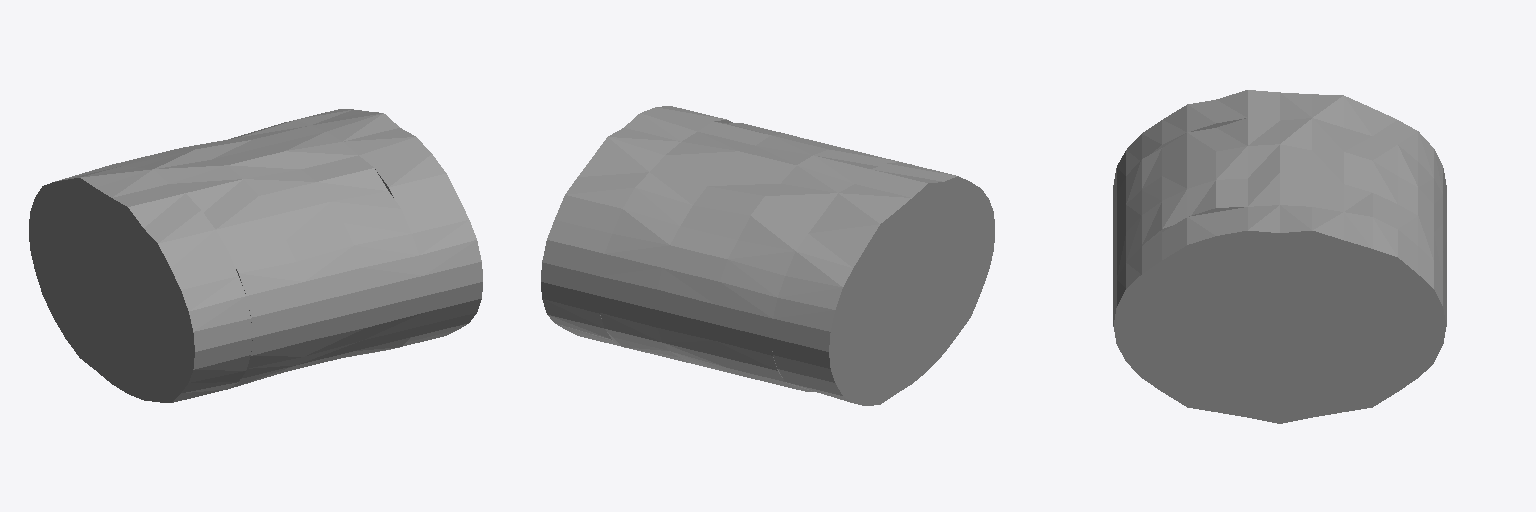
File: snakeBP.obj
The picture shows the model from 3 angles: view 1: azimuth 30°, elevation 25°; view 2: azimuth 150°, elevation 25°; view 3: azimuth 270°, elevation 25°; orthographic projection.
Visible parts, largest first — view 1: Cylinder; view 2: Cylinder; view 3: Cylinder.
Part boxes in pixels (left/top/right/bottom): Cylinder: left=29, top=109, right=482, bottom=402; Cylinder: left=541, top=106, right=994, bottom=405; Cylinder: left=1113, top=90, right=1446, bottom=423.
Bounding box in the file's own units: 2 × 1.29 × 2.